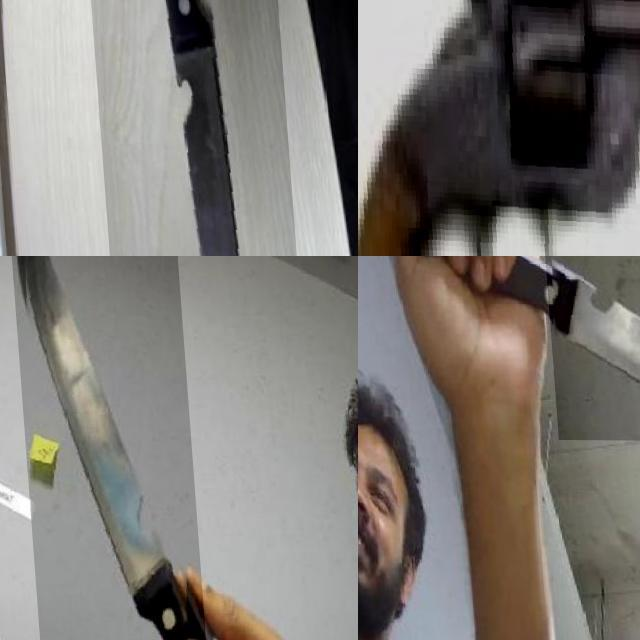-: (4, 256, 197, 640), (73, 0, 296, 256), (541, 256, 640, 440)
gun-knife-thesis - v11 Yolov5 augmented: (358, 0, 640, 256)
